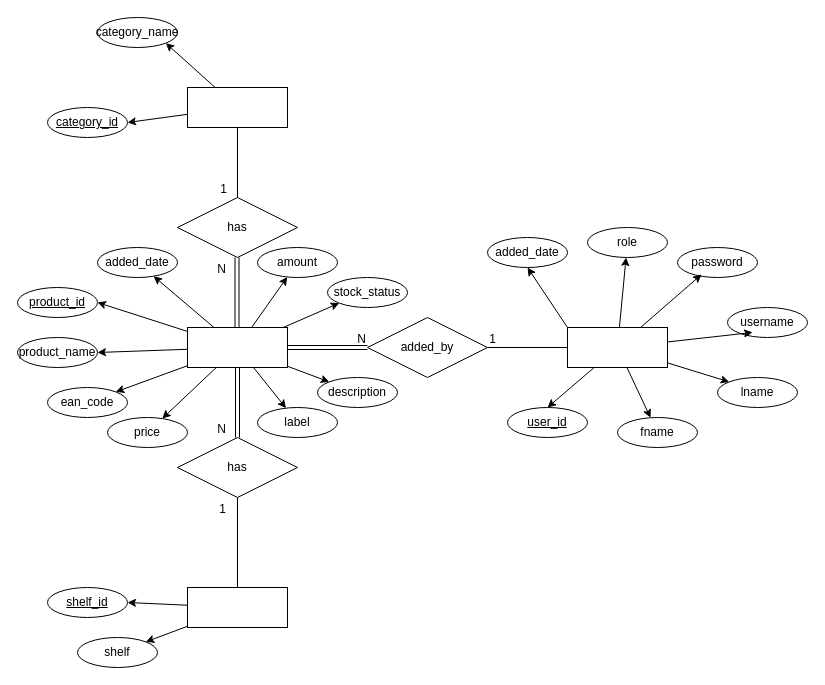
Some shapes in this 825 by 685 pixel diagram are drawn without their labels. Here are the shapes that lost their labels. From the top down, the box of each, then its label:
(186, 86, 288, 128): Categories
(186, 326, 288, 368): Products
(566, 326, 668, 368): User
(186, 586, 288, 628): Shelf_units
